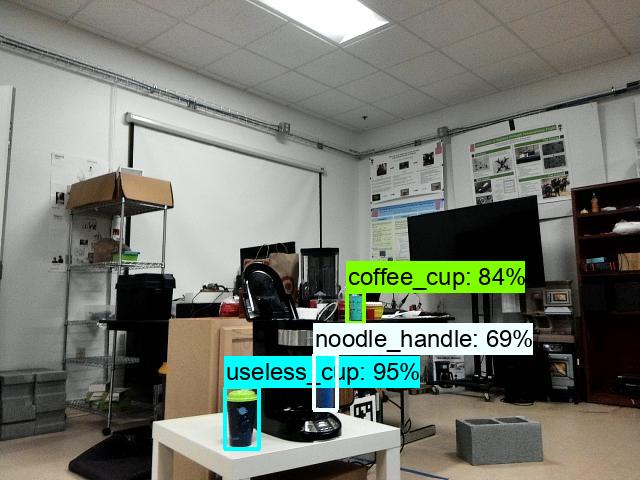coffee_cup: (346, 293, 363, 320)
noodle_handle: (314, 359, 341, 409)
useless_cup: (224, 390, 259, 448)
